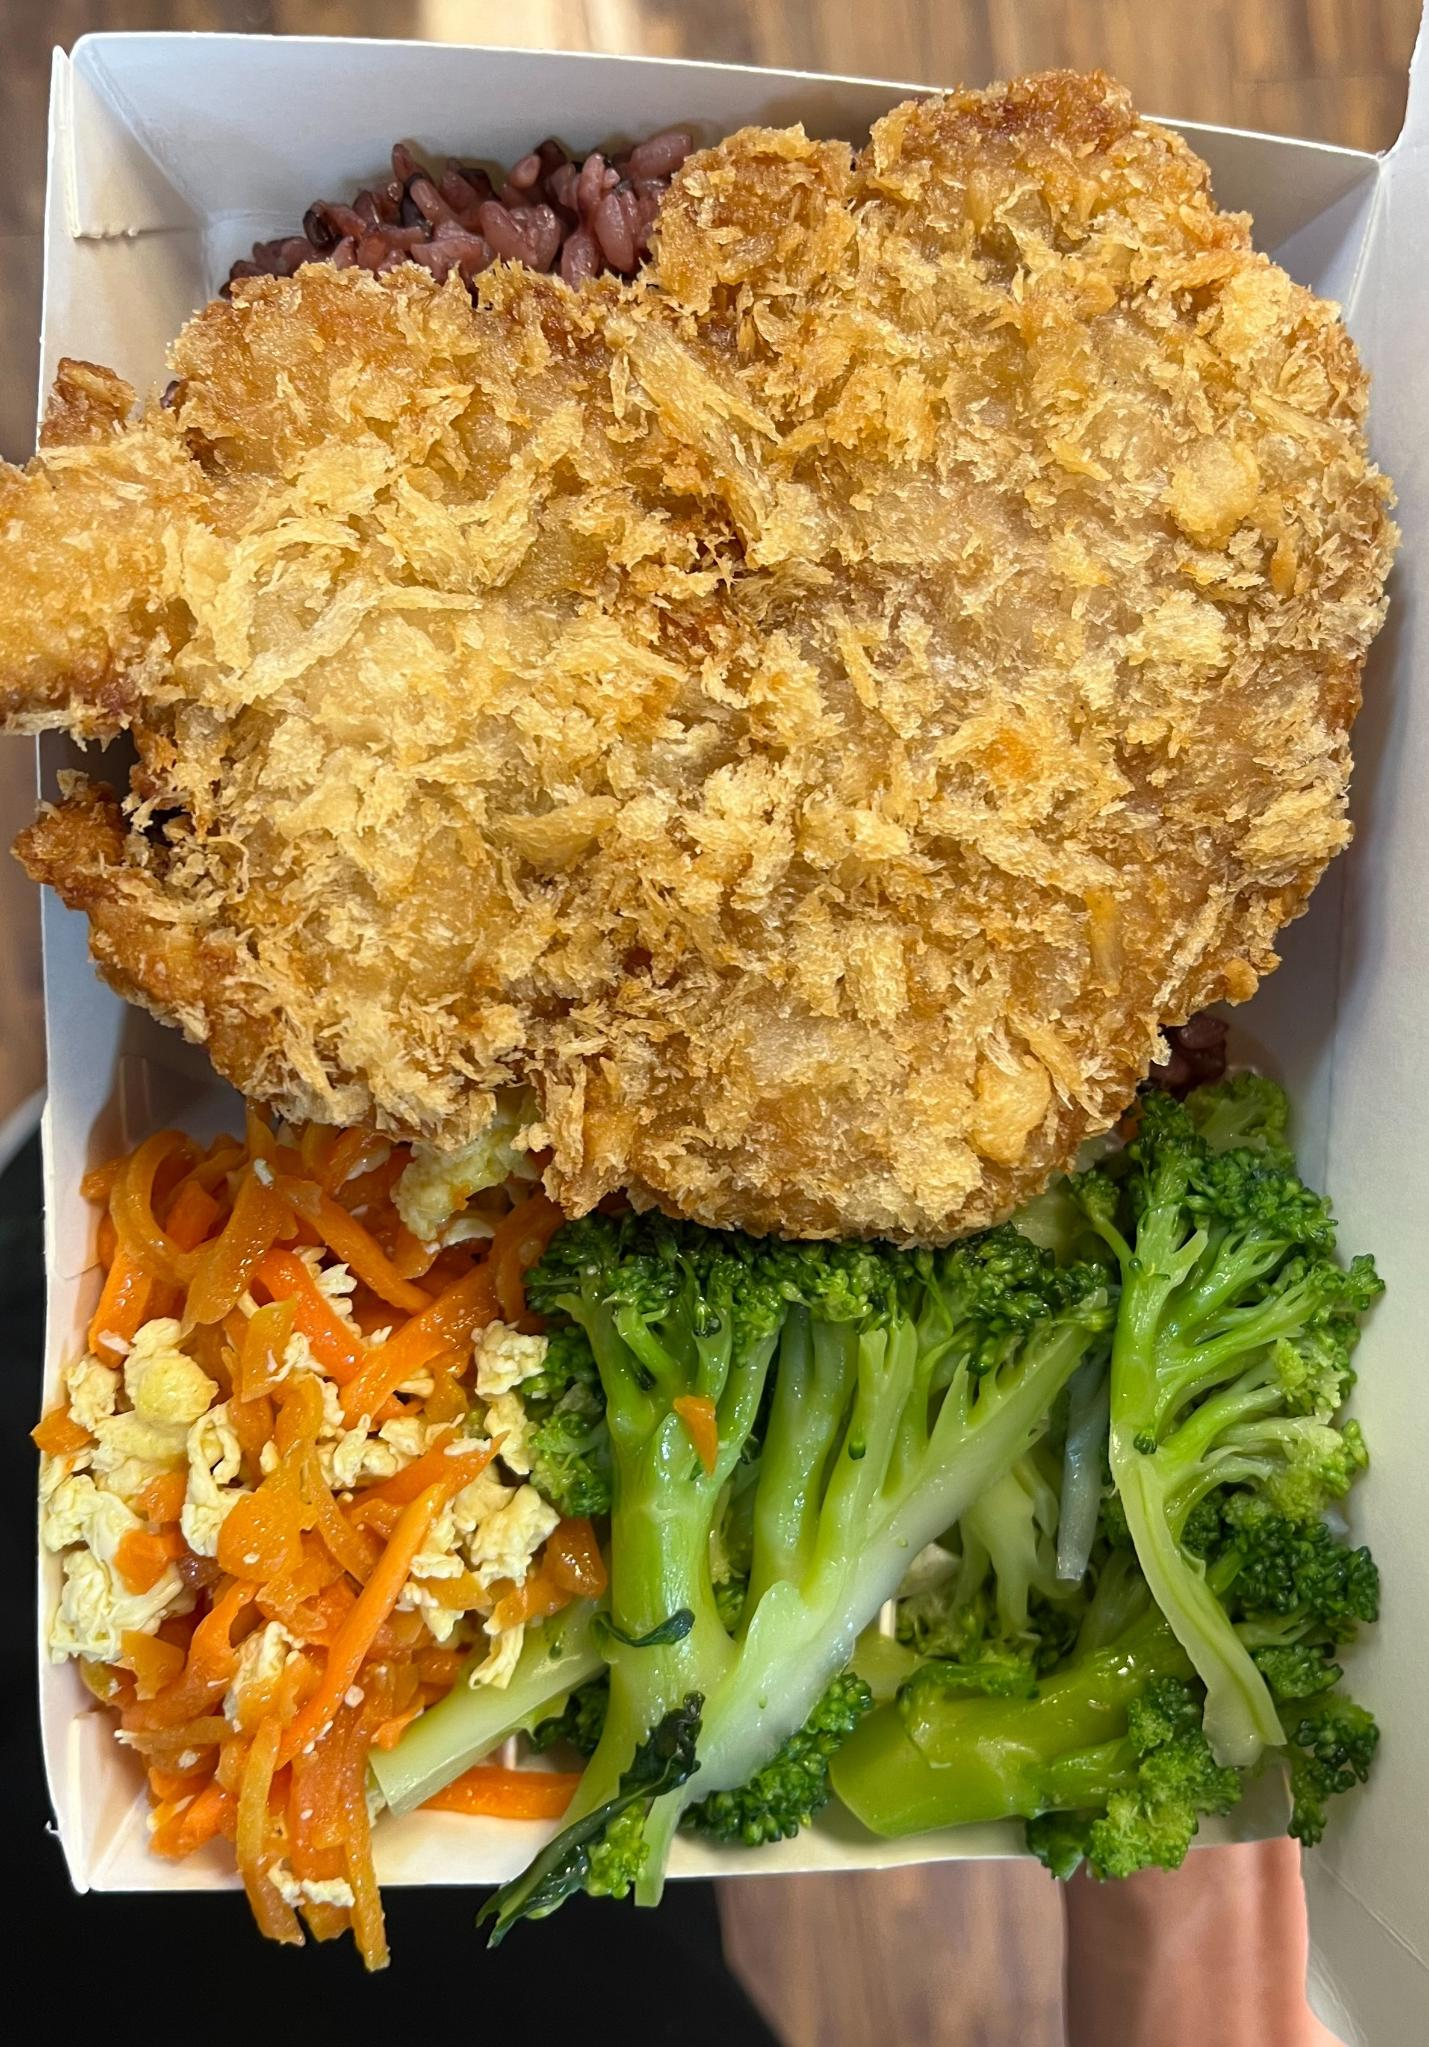big grilled chicken leg: (38, 1, 1429, 1964)
braised fish: (140, 141, 1278, 1074)
braised fish fillet: (536, 1137, 1388, 1838), (79, 1091, 550, 1838)
braised pork: (7, 62, 1386, 1242)
